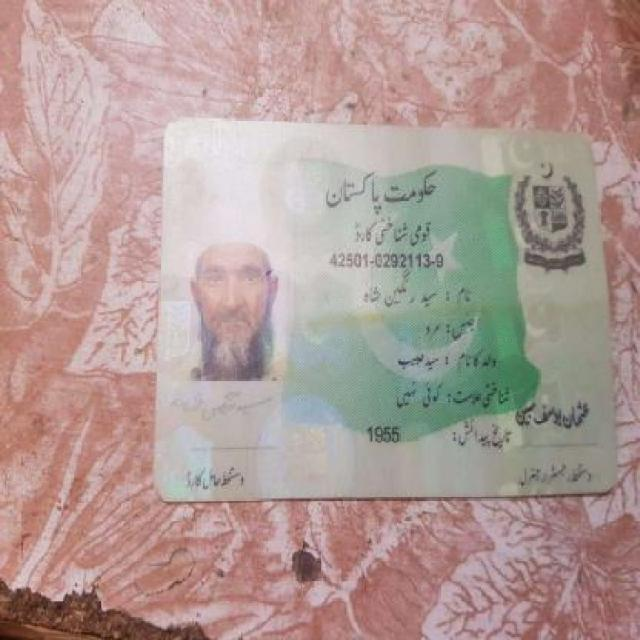Front: (152, 109, 623, 508)
